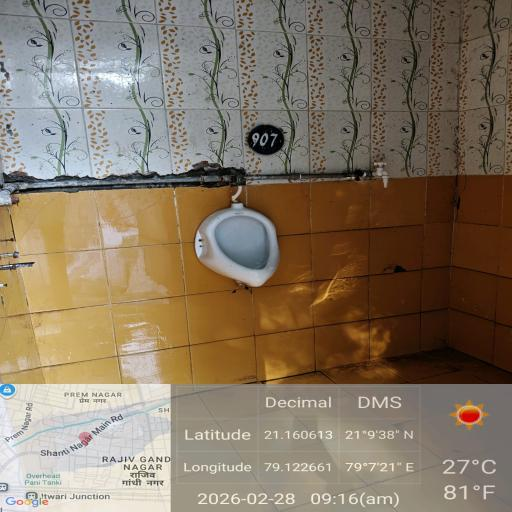clean_floor: (62, 20, 450, 178)
clean_urinal: (179, 196, 320, 294)
partial_dirty_floor: (33, 321, 496, 512)
